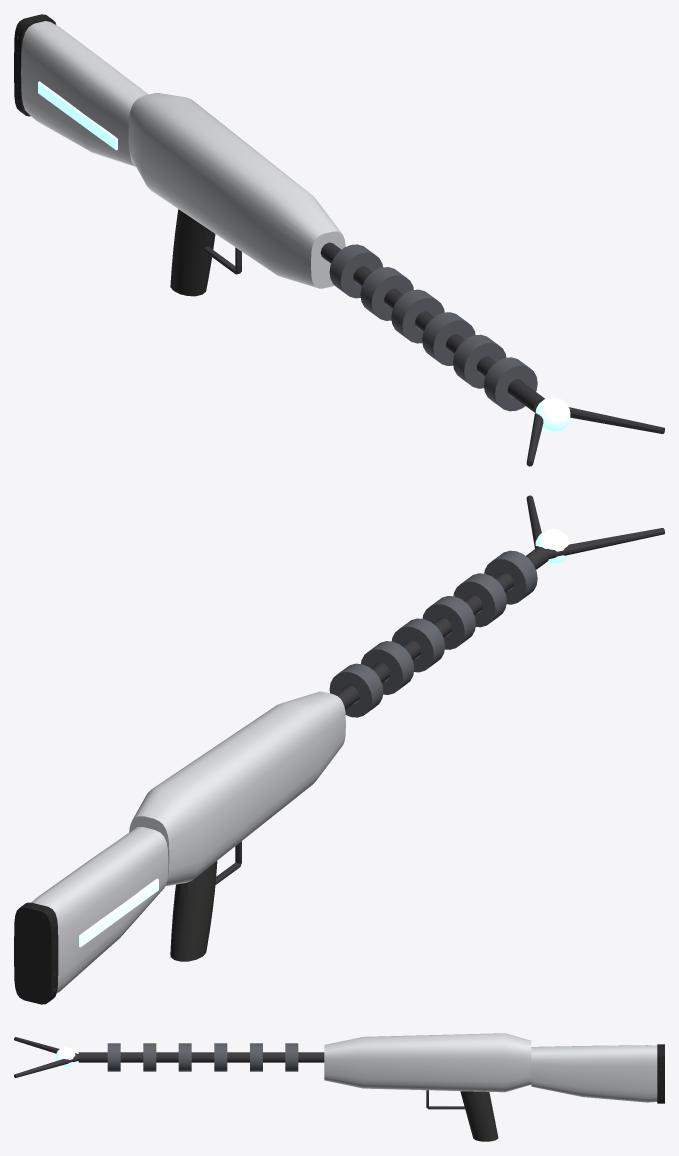
Rendered from sparkwhip.glb.
3 renders of one model, top to bottom at view 1: azimuth 30°, elevation 25°; view 2: azimuth 150°, elevation 25°; view 3: azimuth 270°, elevation 25°, orthographic. The views are drawn at different scales.
Parts seen in each view (by area): view 1: Body; view 2: Body; view 3: Body.
Part boxes in pixels (left/top/right/bottom): Body: left=14, top=14, right=664, bottom=466; Body: left=14, top=495, right=664, bottom=1004; Body: left=14, top=1033, right=664, bottom=1141.
Bounding box in the file's own units: 0.1423 × 0.1727 × 1.01.
